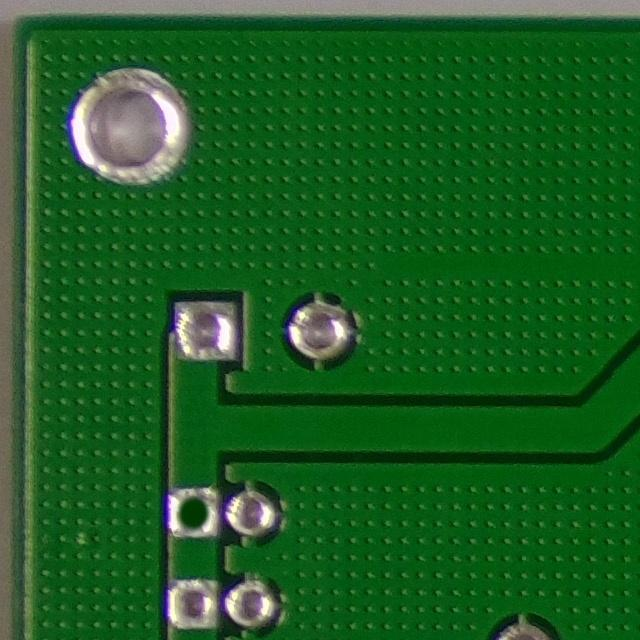missing_hole: (162, 482, 222, 542)
